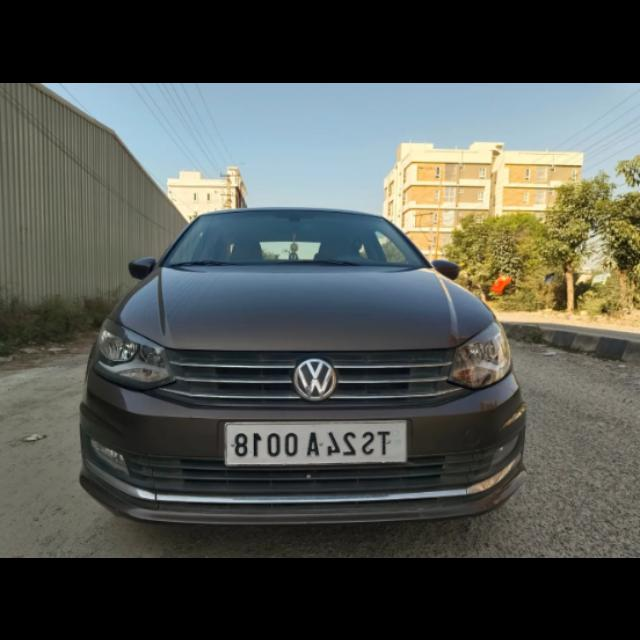number-plate: (225, 418, 407, 462)
vehicles: (58, 195, 532, 525)
